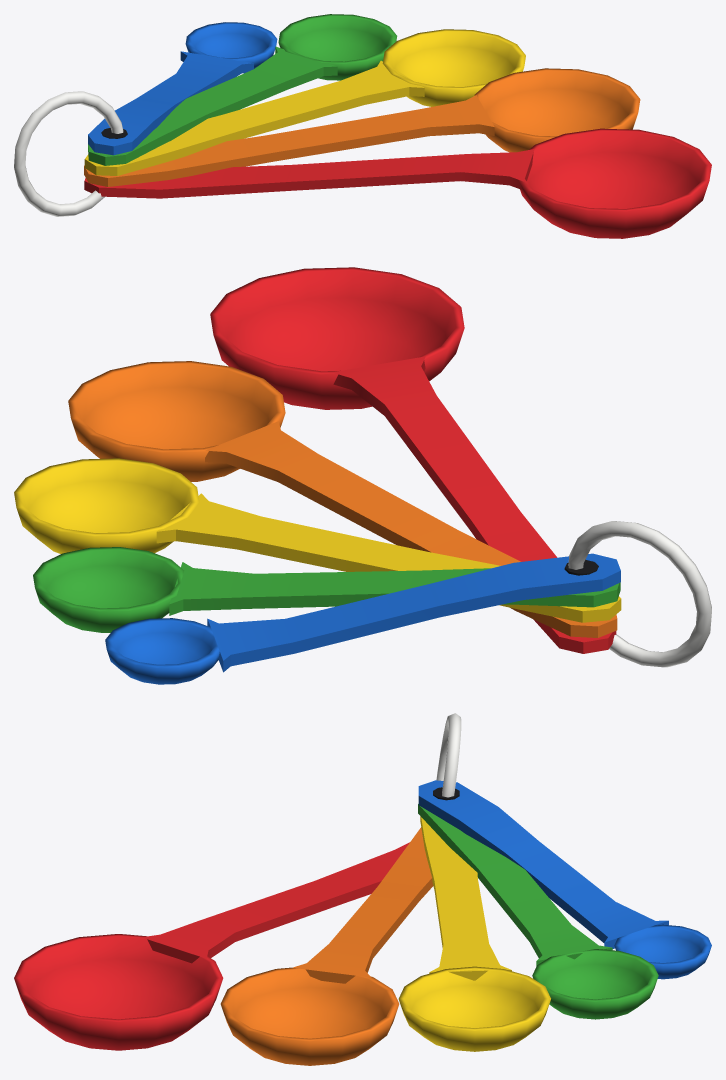
The model's file is item-35.glb.
The picture shows the model from 3 angles, top to bottom: view 1: azimuth 30°, elevation 25°; view 2: azimuth 150°, elevation 25°; view 3: azimuth 270°, elevation 25°; orthographic projection. The views are drawn at different scales.
Parts seen in each view (by area): view 1: bowl, handle, handle.001, bowl.001, handle.002, bowl.002, handle.003, handle.004, bowl.003, ring, bowl.004; view 2: bowl, bowl.001, handle.004, handle, bowl.002, handle.001, handle.002, handle.003, bowl.003, bowl.004, ring; view 3: bowl, bowl.001, bowl.002, handle.004, handle, handle.001, handle.003, bowl.003, handle.002, bowl.004, ring.
Part boxes in pixels (x1=…): bowl: x1=519, y1=128, x2=711, y2=238; handle: x1=84, y1=149, x2=534, y2=198; handle.001: x1=84, y1=95, x2=494, y2=186; bowl.001: x1=474, y1=68, x2=640, y2=152; handle.002: x1=84, y1=60, x2=424, y2=175; bowl.002: x1=382, y1=29, x2=525, y2=106; handle.003: x1=88, y1=46, x2=337, y2=165; handle.004: x1=88, y1=51, x2=253, y2=155; bowl.003: x1=278, y1=14, x2=397, y2=80; ring: x1=14, y1=91, x2=123, y2=216; bowl.004: x1=185, y1=22, x2=277, y2=68; bowl: x1=210, y1=267, x2=464, y2=409; bowl.001: x1=68, y1=361, x2=285, y2=481; handle.004: x1=207, y1=553, x2=620, y2=672; handle: x1=332, y1=356, x2=616, y2=653; bowl.002: x1=14, y1=458, x2=199, y2=553; handle.001: x1=205, y1=421, x2=617, y2=637; handle.002: x1=156, y1=493, x2=621, y2=622; handle.003: x1=169, y1=562, x2=620, y2=615; bowl.003: x1=33, y1=547, x2=184, y2=632; bowl.004: x1=105, y1=618, x2=219, y2=684; ring: x1=568, y1=521, x2=711, y2=667; bowl: x1=14, y1=934, x2=223, y2=1050; bowl.001: x1=220, y1=967, x2=399, y2=1065; bowl.002: x1=398, y1=966, x2=550, y2=1051; handle.004: x1=418, y1=780, x2=668, y2=948; handle: x1=142, y1=842, x2=409, y2=963; handle.001: x1=293, y1=827, x2=433, y2=983; handle.003: x1=418, y1=804, x2=612, y2=966; bowl.003: x1=532, y1=949, x2=658, y2=1019; handle.002: x1=420, y1=816, x2=511, y2=980; bowl.004: x1=614, y1=924, x2=711, y2=979; ring: x1=436, y1=713, x2=461, y2=797.
Size of the model in its own units: 0.1541 by 0.0312 by 0.16.
